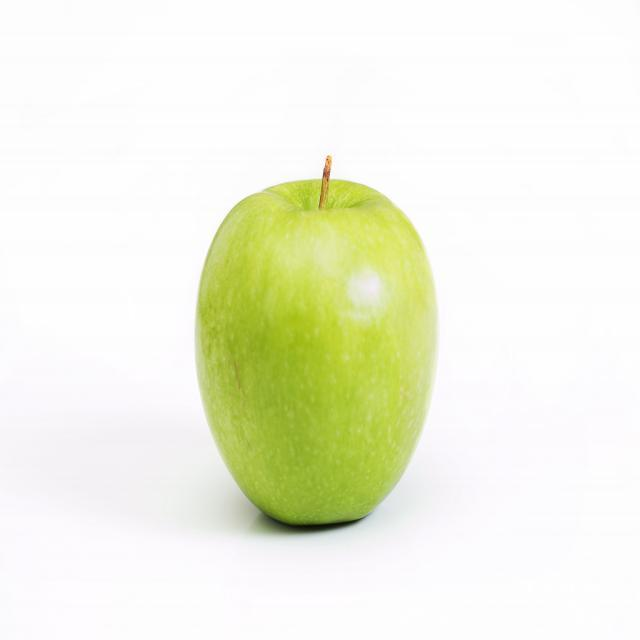Apple: (194, 155, 440, 526)
